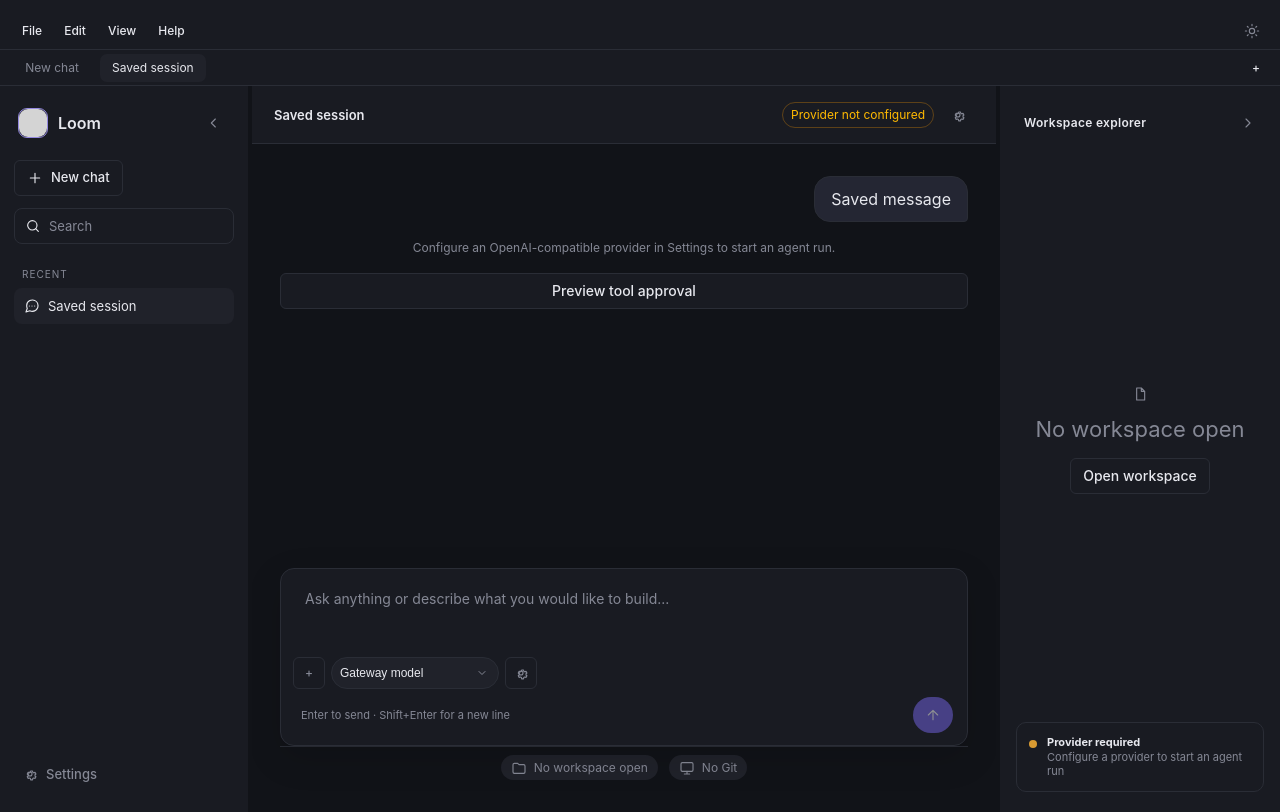
it: MainUI testing › creating chat from the titlebar clears the active session and exposes a New chat tab
Click the button named "Create chat".
click(1256, 68)  # box [1240, 52, 1272, 84]
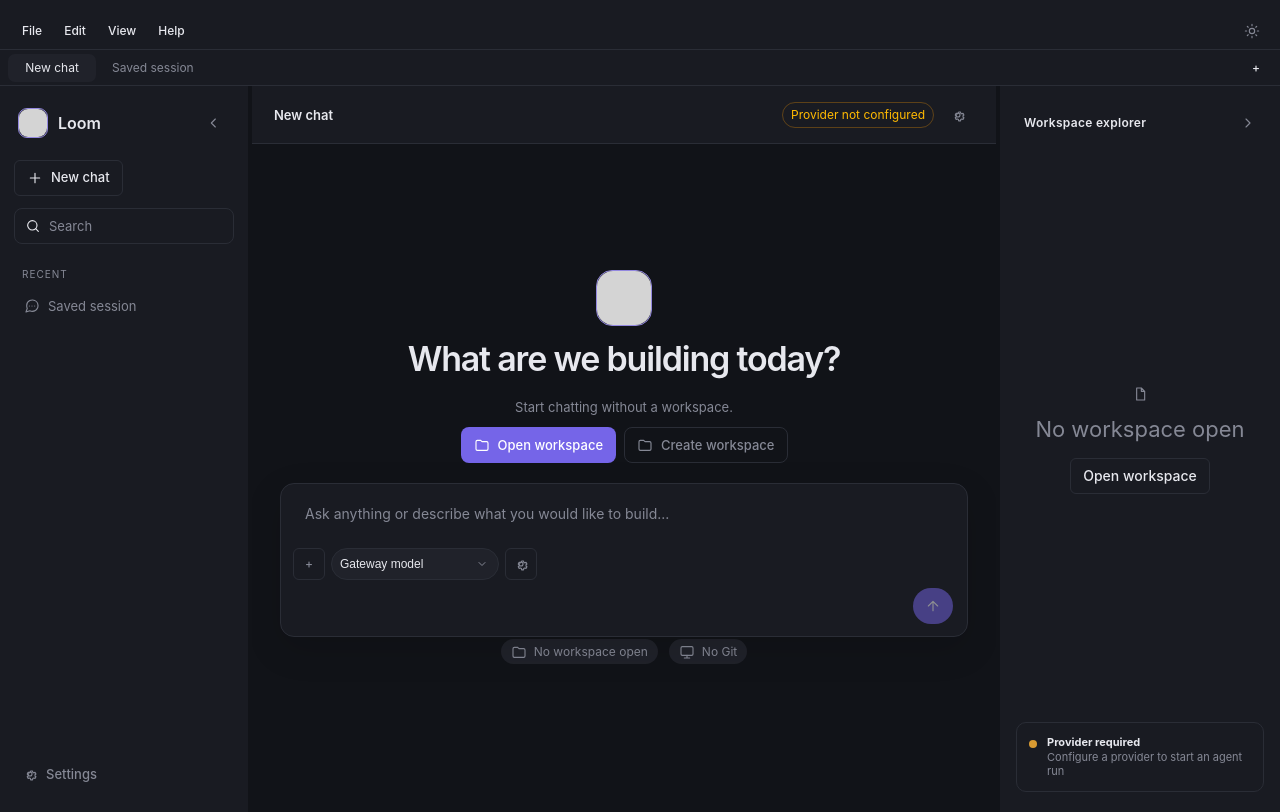
Check: the header named "Session context" shows "New chat", box [274, 106, 333, 122]
Check: the heading "What are we building today?" is shown, box [408, 338, 840, 378]
